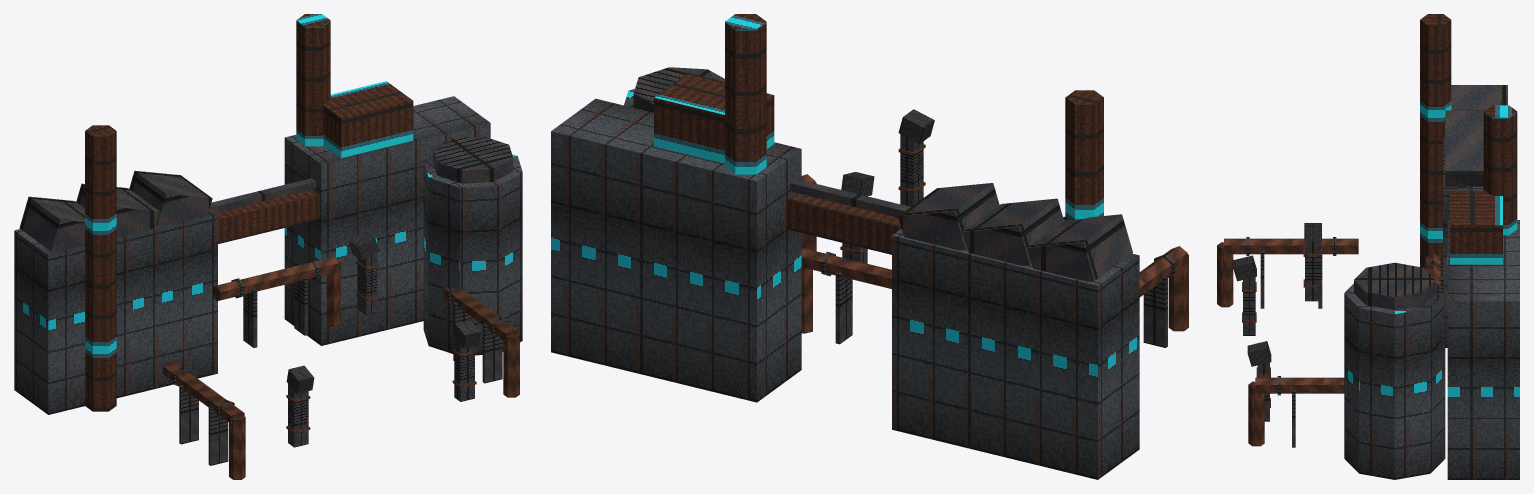
The model's file is etip_tubulacoes_fundo.obj.
The picture shows the model from 3 angles, left to right: view 1: azimuth 30°, elevation 25°; view 2: azimuth 150°, elevation 25°; view 3: azimuth 270°, elevation 25°; orthographic projection. The views are drawn at different scales.
Parts seen in each view (by area): view 1: PS2_Mat_Concreto_Group, PS2_Mat_AcoEscuro_Group, PS2_Mat_Ferrugem_Group, PS2_Mat_Metal_Ferrugem_Group; view 2: PS2_Mat_Concreto_Group, PS2_Mat_AcoEscuro_Group, PS2_Mat_Ferrugem_Group, PS2_Mat_Metal_Ferrugem_Group; view 3: PS2_Mat_Concreto_Group, PS2_Mat_Ferrugem_Group, PS2_Mat_AcoEscuro_Group, PS2_Mat_Metal_Ferrugem_Group.
Boxes of the visible parts, x1,y1,x2,y2 form: PS2_Mat_Concreto_Group: [14, 96, 522, 414]; PS2_Mat_AcoEscuro_Group: [19, 136, 513, 465]; PS2_Mat_Ferrugem_Group: [85, 14, 413, 411]; PS2_Mat_Metal_Ferrugem_Group: [163, 256, 519, 479]; PS2_Mat_Concreto_Group: [551, 89, 1139, 479]; PS2_Mat_AcoEscuro_Group: [633, 67, 1175, 347]; PS2_Mat_Ferrugem_Group: [654, 14, 1103, 254]; PS2_Mat_Metal_Ferrugem_Group: [801, 144, 1188, 333]; PS2_Mat_Concreto_Group: [1344, 138, 1519, 479]; PS2_Mat_Ferrugem_Group: [1420, 14, 1517, 277]; PS2_Mat_AcoEscuro_Group: [1233, 85, 1507, 447]; PS2_Mat_Metal_Ferrugem_Group: [1217, 238, 1440, 446].
Size of the model in its own units: 21 by 13.6 by 12.59.
4 materials, 4 textured.
